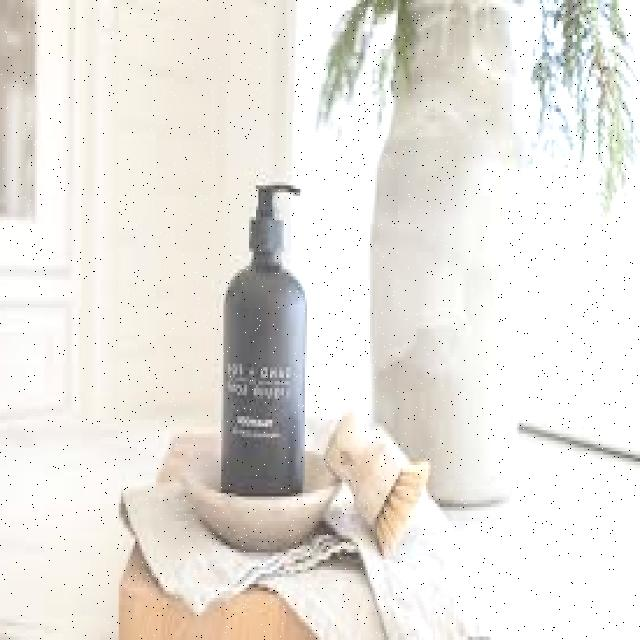liquid soap: (216, 178, 309, 504)
